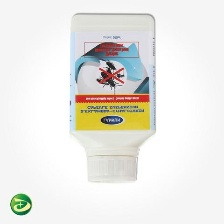insecticide: (63, 9, 159, 190)
